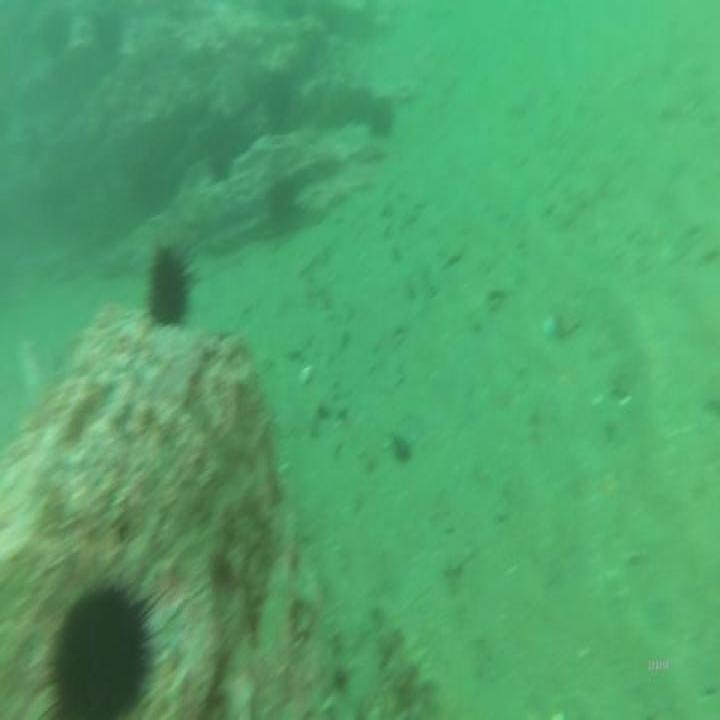echinus: (40, 565, 168, 720), (143, 238, 191, 338), (261, 169, 300, 238)
